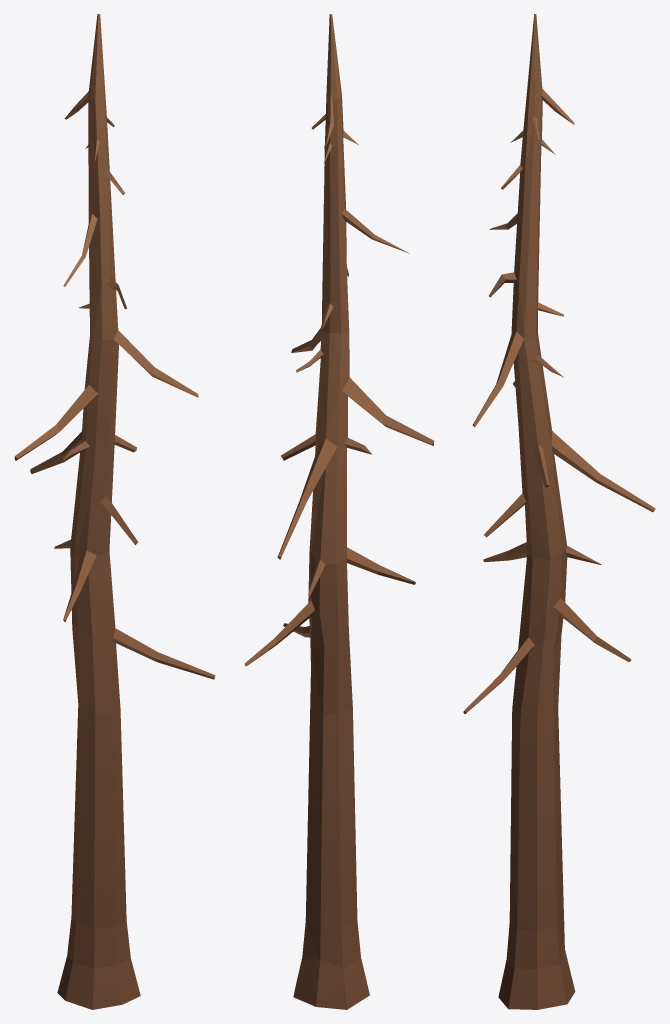
File: Tree_Pine_Dead_02.fbx
3 renders of one model, left to right at view 1: azimuth 30°, elevation 25°; view 2: azimuth 150°, elevation 25°; view 3: azimuth 270°, elevation 25°, orthographic.
Parts seen in each view (by area): view 1: Tree_Pine_Dead_02; view 2: Tree_Pine_Dead_02; view 3: Tree_Pine_Dead_02.
Part boxes in pixels (<box>): Tree_Pine_Dead_02: <box>14,14,215,1009</box>; Tree_Pine_Dead_02: <box>244,14,434,1009</box>; Tree_Pine_Dead_02: <box>463,14,655,1009</box>.
Bounding box in the file's own units: 173 × 923 × 164.
